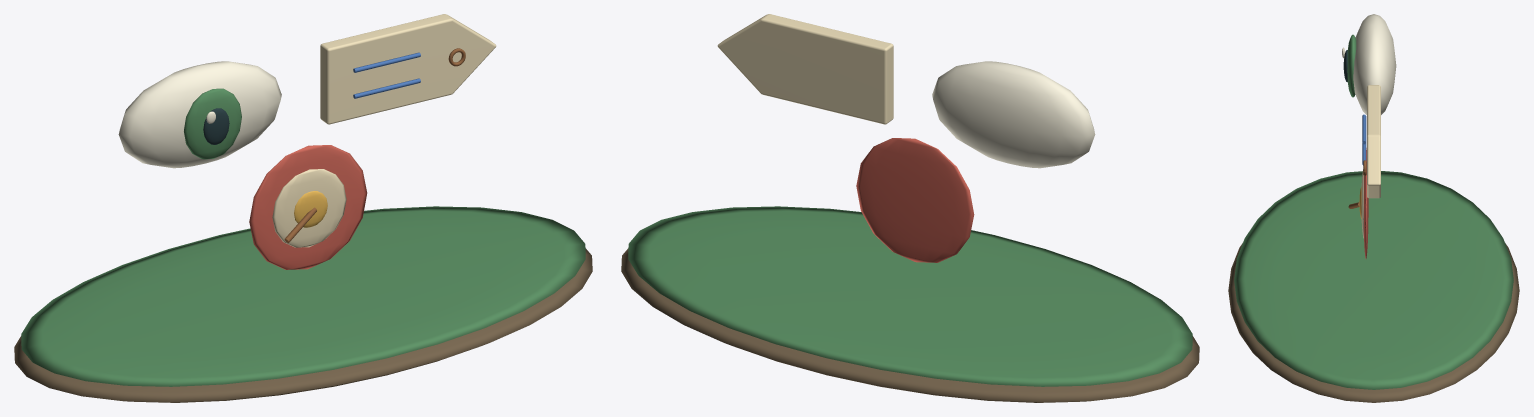
Rendered from complete-second-eye-ownership-purpose.glb.
3 views of the same model, side by side, from view 1: azimuth 30°, elevation 25°; view 2: azimuth 150°, elevation 25°; view 3: azimuth 270°, elevation 25° (orthographic). The views are drawn at different scales.
Parts seen in each view (by area): view 1: complete-second-eye-ownership-purpose_surface_01, complete-second-eye-ownership-purpose_surface_04, complete-second-eye-ownership-purpose_surface_00, complete-second-eye-ownership-purpose_surface_02, complete-second-eye-ownership-purpose_surface_07, complete-second-eye-ownership-purpose_surface_08, complete-second-eye-ownership-purpose_surface_06, complete-second-eye-ownership-purpose_surface_03; view 2: complete-second-eye-ownership-purpose_surface_01, complete-second-eye-ownership-purpose_surface_02, complete-second-eye-ownership-purpose_surface_04, complete-second-eye-ownership-purpose_surface_07, complete-second-eye-ownership-purpose_surface_00; view 3: complete-second-eye-ownership-purpose_surface_01, complete-second-eye-ownership-purpose_surface_00, complete-second-eye-ownership-purpose_surface_02, complete-second-eye-ownership-purpose_surface_04, complete-second-eye-ownership-purpose_surface_07.
Boxes of the visible parts, box(x1,y1,x2,y2) form: complete-second-eye-ownership-purpose_surface_01: box(21, 88, 585, 386); complete-second-eye-ownership-purpose_surface_04: box(272, 14, 496, 247); complete-second-eye-ownership-purpose_surface_00: box(14, 248, 592, 402); complete-second-eye-ownership-purpose_surface_02: box(118, 61, 281, 168); complete-second-eye-ownership-purpose_surface_07: box(249, 145, 367, 269); complete-second-eye-ownership-purpose_surface_08: box(294, 191, 327, 227); complete-second-eye-ownership-purpose_surface_06: box(353, 52, 420, 98); complete-second-eye-ownership-purpose_surface_03: box(203, 108, 229, 144); complete-second-eye-ownership-purpose_surface_01: box(628, 206, 1192, 386); complete-second-eye-ownership-purpose_surface_02: box(932, 61, 1095, 168); complete-second-eye-ownership-purpose_surface_04: box(717, 14, 893, 124); complete-second-eye-ownership-purpose_surface_07: box(856, 138, 974, 262); complete-second-eye-ownership-purpose_surface_00: box(621, 248, 1199, 402); complete-second-eye-ownership-purpose_surface_01: box(1234, 34, 1513, 389); complete-second-eye-ownership-purpose_surface_00: box(1228, 243, 1519, 402); complete-second-eye-ownership-purpose_surface_02: box(1342, 14, 1396, 114); complete-second-eye-ownership-purpose_surface_04: box(1361, 85, 1380, 238); complete-second-eye-ownership-purpose_surface_07: box(1364, 148, 1368, 258).
Bounding box in the file's own units: 4.56 × 2.24 × 2.5.
